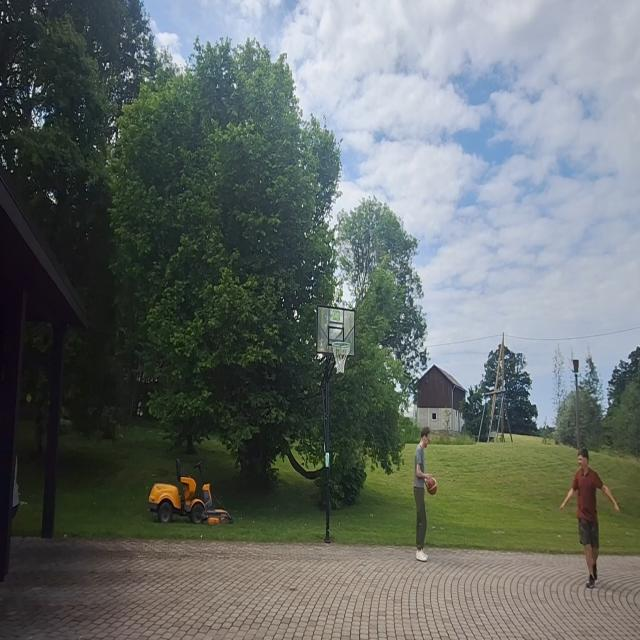ball: (425, 474, 438, 496)
basket: (332, 337, 350, 376)
player: (561, 447, 622, 586), (412, 424, 439, 562)
